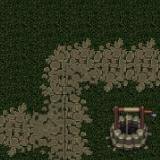Hide: (94, 93, 160, 160)
